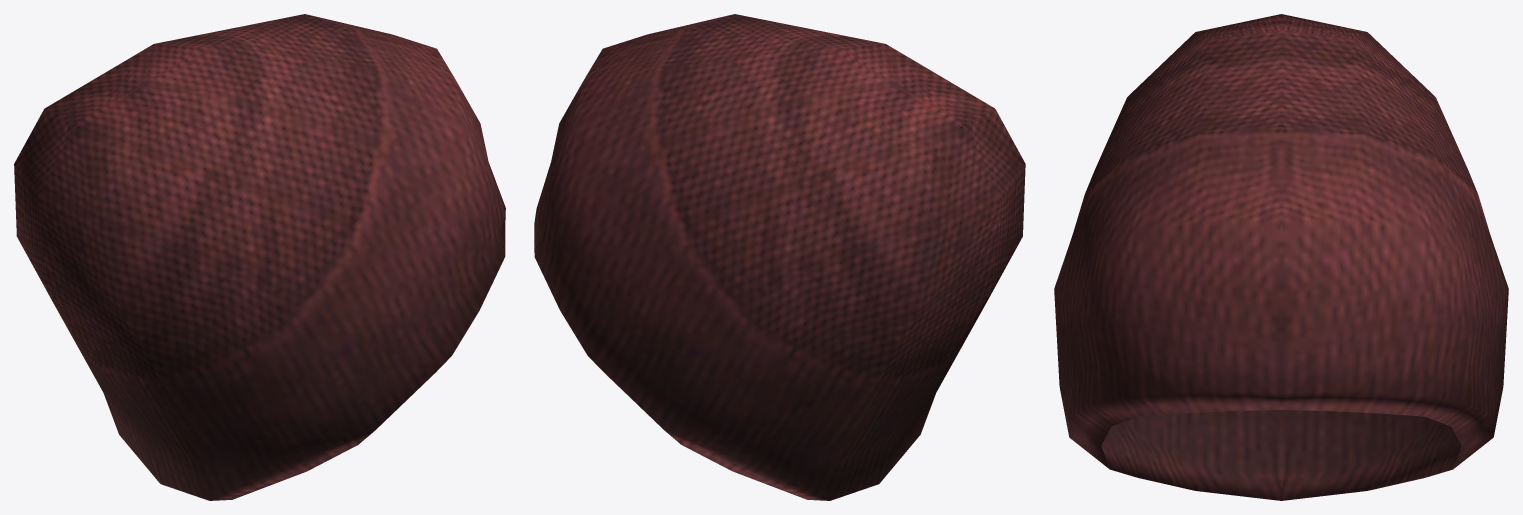
Rendered from hat_0400040.FBX.
3 views of the same model, side by side, from view 1: azimuth 30°, elevation 25°; view 2: azimuth 150°, elevation 25°; view 3: azimuth 270°, elevation 25° (orthographic). The views are drawn at different scales.
Parts seen in each view (by area): view 1: hat_0400040; view 2: hat_0400040; view 3: hat_0400040.
Part boxes in pixels (left/top/right/bottom): hat_0400040: left=14, top=14, right=505, bottom=500; hat_0400040: left=534, top=14, right=1025, bottom=500; hat_0400040: left=1054, top=14, right=1508, bottom=500.
Bounding box in the file's own units: 30.34 × 28.79 × 24.73.
